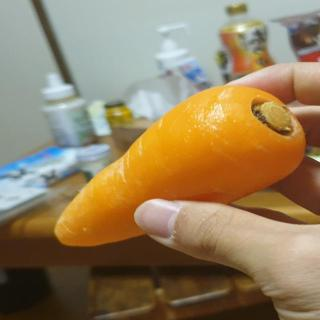carrot: (50, 81, 310, 249)
